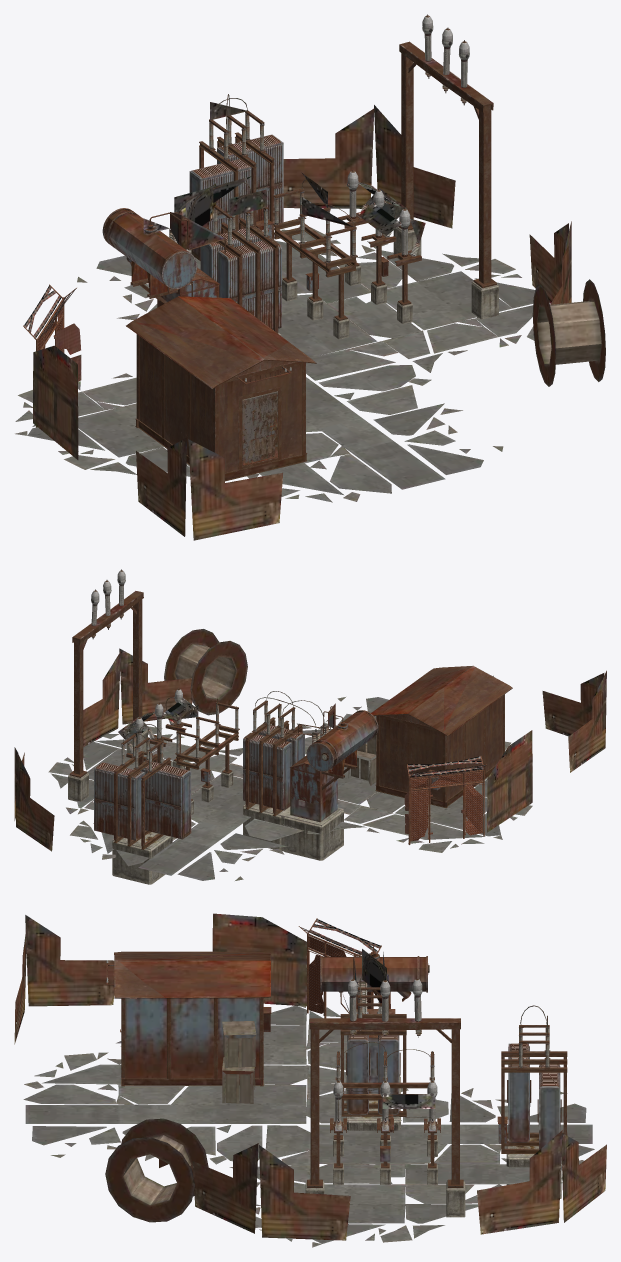
File: power_sub_big_1-mid.glb
3 renders of one model, top to bottom at view 1: azimuth 30°, elevation 25°; view 2: azimuth 150°, elevation 25°; view 3: azimuth 270°, elevation 25°, orthographic. The views are drawn at different scales.
Parts seen in each view (by area): view 1: substation_big_1_hlod, substation_b_LOD0, substation_d_LOD0, chainlink_fence_3x3_gate_LOD0; view 2: substation_big_1_hlod, substation_b_LOD0, substation_d_LOD0, chainlink_fence_3x3_gate_LOD0; view 3: substation_big_1_hlod, substation_b_LOD0, substation_d_LOD0, chainlink_fence_3x3_gate_LOD0.
Boxes of the visible parts, left/top/right/bottom form: substation_big_1_hlod: left=15, top=35, right=605, bottom=540; substation_b_LOD0: left=102, top=14, right=498, bottom=481; substation_d_LOD0: left=126, top=296, right=316, bottom=472; chainlink_fence_3x3_gate_LOD0: left=23, top=284, right=76, bottom=427; substation_big_1_hlod: left=14, top=585, right=606, bottom=880; substation_b_LOD0: left=68, top=569, right=504, bottom=884; substation_d_LOD0: left=373, top=666, right=512, bottom=800; chainlink_fence_3x3_gate_LOD0: left=407, top=756, right=486, bottom=844; substation_big_1_hlod: left=14, top=913, right=606, bottom=1247; substation_b_LOD0: left=106, top=946, right=567, bottom=1217; substation_d_LOD0: left=114, top=951, right=270, bottom=1032; chainlink_fence_3x3_gate_LOD0: left=298, top=918, right=381, bottom=1018.
Size of the model in its own units: 18.55 by 9.39 by 18.93.
Materials: 8 (8 with a texture image).
